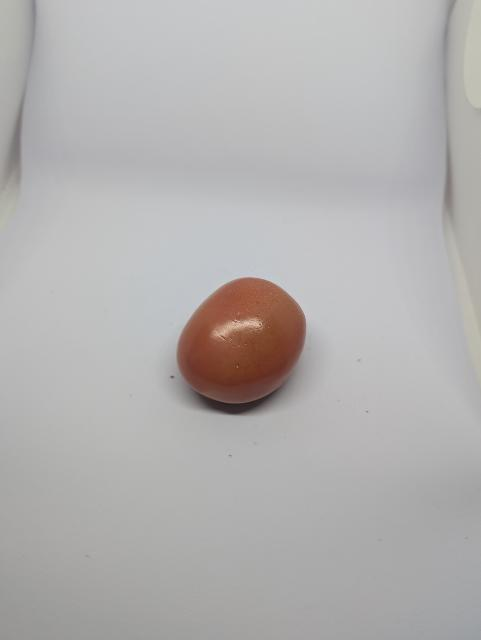red: (162, 266, 322, 417)
